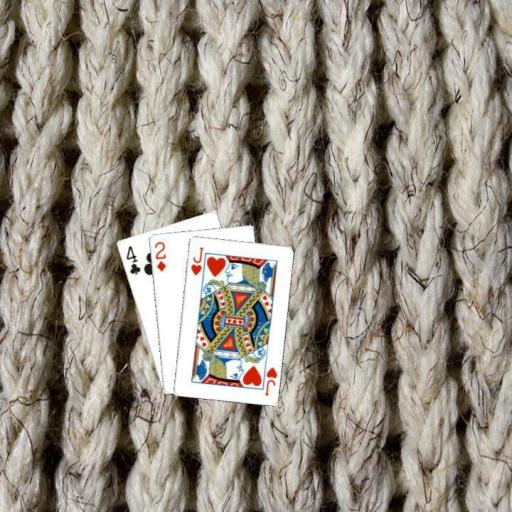card-corner: (122, 242, 142, 276), (188, 244, 205, 277), (262, 364, 278, 397), (152, 238, 167, 272)
